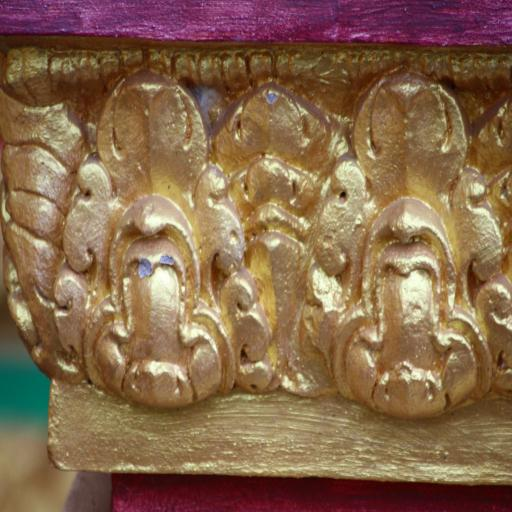la: (58, 62, 256, 408), (326, 62, 500, 424), (214, 73, 346, 414)
